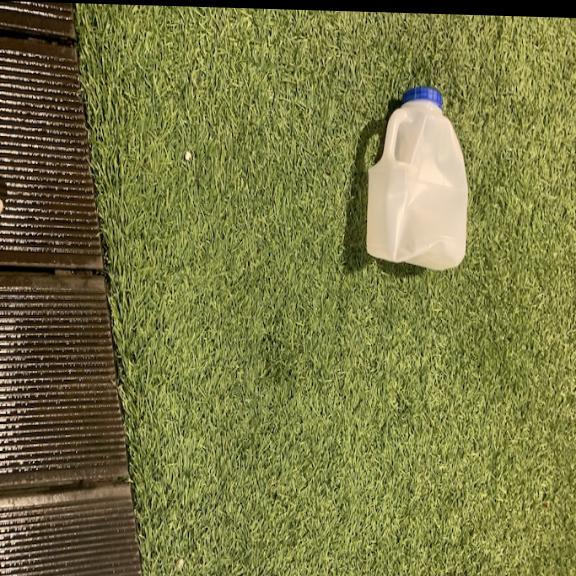Plastik: (359, 80, 471, 272)
